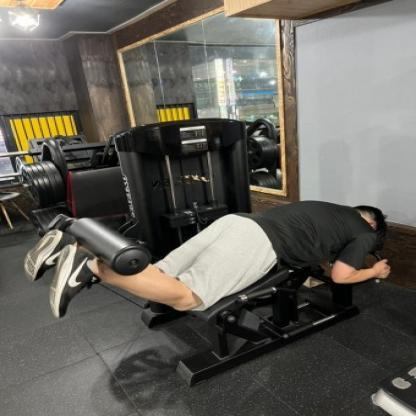reg curl machine: (22, 114, 394, 389)
